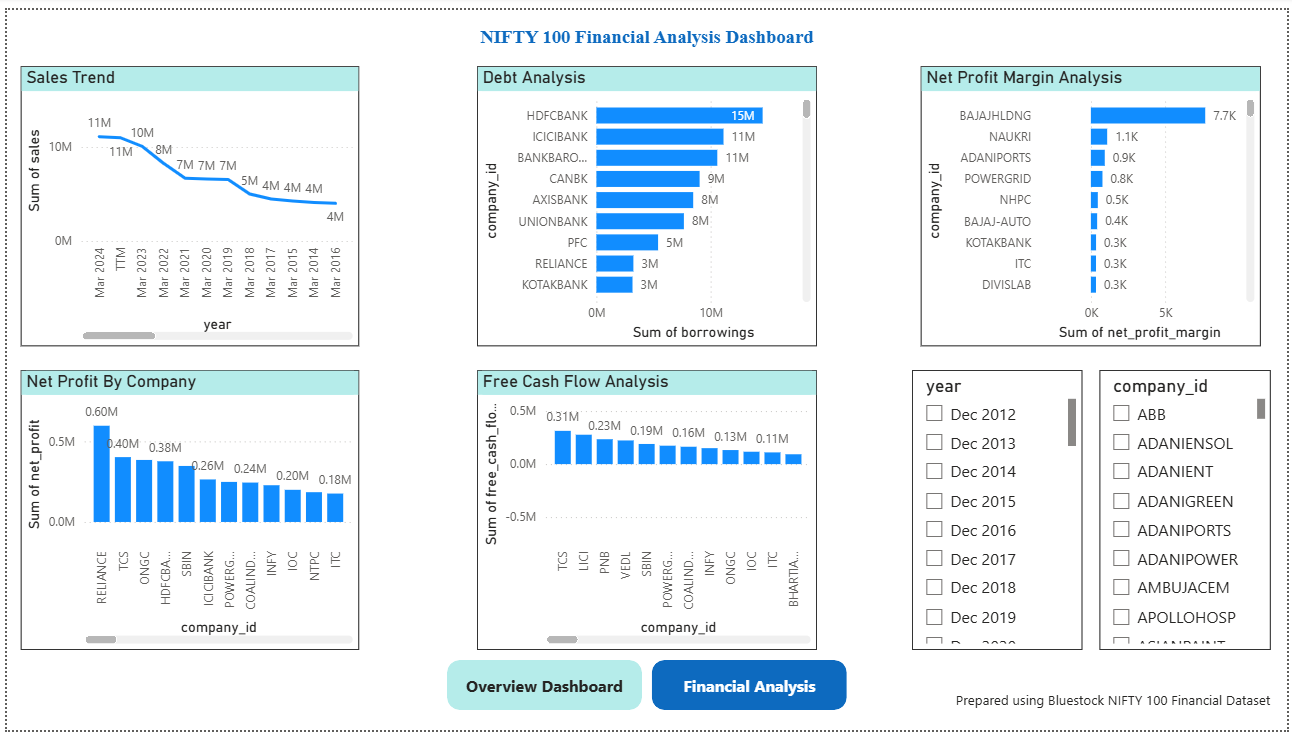

The dashboard page shown, as its layout file describes it:
{"tool":"powerbi","page":{"name":"Financial Analysis","canvas":[1280,720],"ordinal":1},"visuals":[{"type":"lineChart","title":"Sales Trend","fields":{"Category":["Sheet1.year"],"Y":["Sum(Sheet1.sales)"]},"box":[13.3,56.7,338.3,280],"z":0},{"type":"clusteredColumnChart","title":"Net Profit By Company","fields":{"Category":["Sheet1.company_id"],"Y":["Sum(Sheet1.net_profit)"]},"box":[13.3,360,338.3,280],"z":1000},{"type":"barChart","title":"Debt Analysis","fields":{"Category":["Sheet1.company_id"],"Y":["Sum(Sheet1.borrowings)"]},"box":[470,56.7,340,280],"z":2000},{"type":"columnChart","title":"Free Cash Flow Analysis","fields":{"Y":["Sum(Sheet1.free_cash_flow)"],"Category":["Sheet1.company_id"]},"box":[470,360,340,280],"z":3000},{"type":"barChart","title":"Net Profit Margin Analysis","fields":{"Category":["Sheet1.company_id"],"Y":["Sum(Sheet1.net_profit_margin)"]},"box":[913.3,56.7,340,280],"z":4000},{"type":"slicer","fields":{"Values":["Sheet1.year"]},"box":[905,360,170,280],"z":5000},{"type":"slicer","fields":{"Values":["Sheet1.company_id"]},"box":[1092.5,360,171.2,280],"z":6000},{"type":"pageNavigator","box":[440,650,400,50],"z":7000},{"type":"textbox","box":[0,11.7,1280,45],"z":8000},{"type":"textbox","box":[944,676,336,44],"z":8001}]}

Visuals, with their boxes in screenshot pixels (x1, y1, x2, y2), scaled from the page's 1280x720 canvas onto the 1292x732 screenshot:
"Sales Trend" lineChart: (x1=13, y1=58, x2=355, y2=342)
"Net Profit By Company" clusteredColumnChart: (x1=13, y1=366, x2=355, y2=651)
"Debt Analysis" barChart: (x1=474, y1=58, x2=818, y2=342)
"Free Cash Flow Analysis" columnChart: (x1=474, y1=366, x2=818, y2=651)
"Net Profit Margin Analysis" barChart: (x1=922, y1=58, x2=1265, y2=342)
slicer - Sheet1.year: (x1=913, y1=366, x2=1085, y2=651)
slicer - Sheet1.company_id: (x1=1103, y1=366, x2=1276, y2=651)
pageNavigator: (x1=444, y1=661, x2=848, y2=712)
textbox: (x1=0, y1=12, x2=1291, y2=58)
textbox: (x1=953, y1=687, x2=1291, y2=731)
